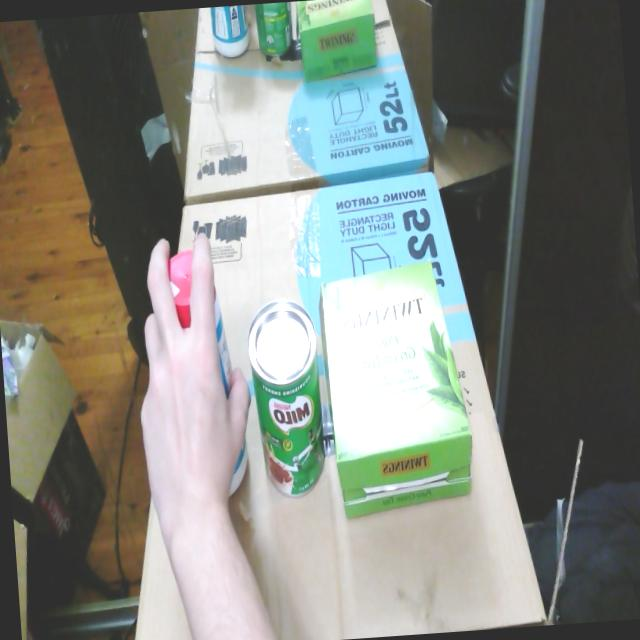nestle_milo_tin: (247, 299, 324, 497)
twinings_greentea_box: (318, 260, 471, 517)
woolworths_salt_bottle: (214, 286, 232, 399), (168, 250, 192, 327), (228, 433, 248, 497)
